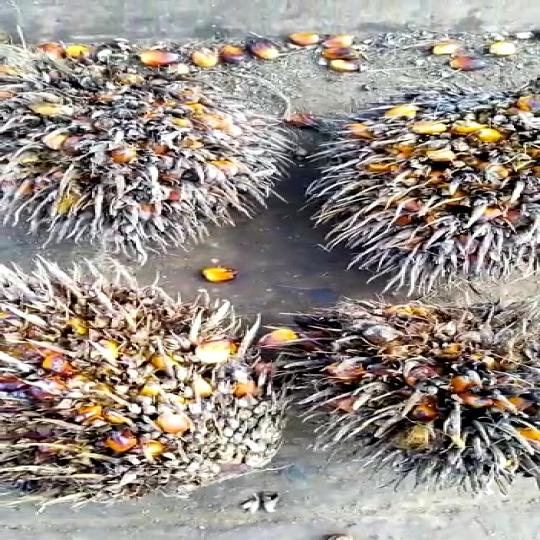terlalu masak: (0, 48, 297, 264), (0, 269, 272, 493), (308, 90, 540, 300), (285, 291, 540, 474)
